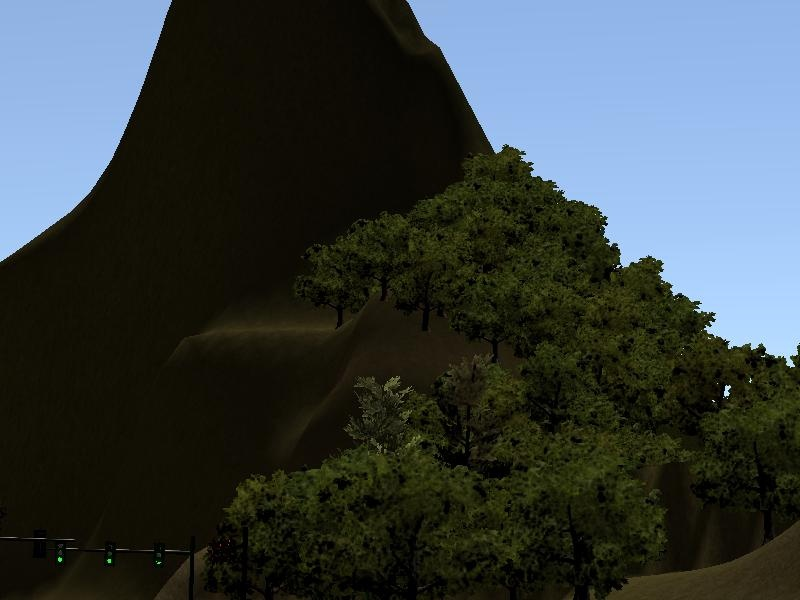GREEN: (51, 532, 69, 572), (99, 535, 117, 573)
